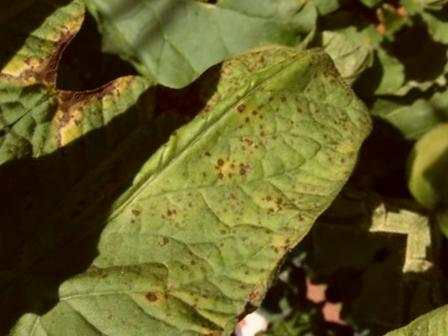Tomato Early blight leaf: (0, 0, 444, 336)
